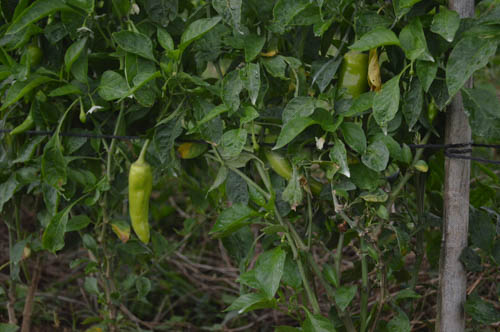ChiliPepper: (128, 160, 156, 244), (337, 57, 367, 88)
